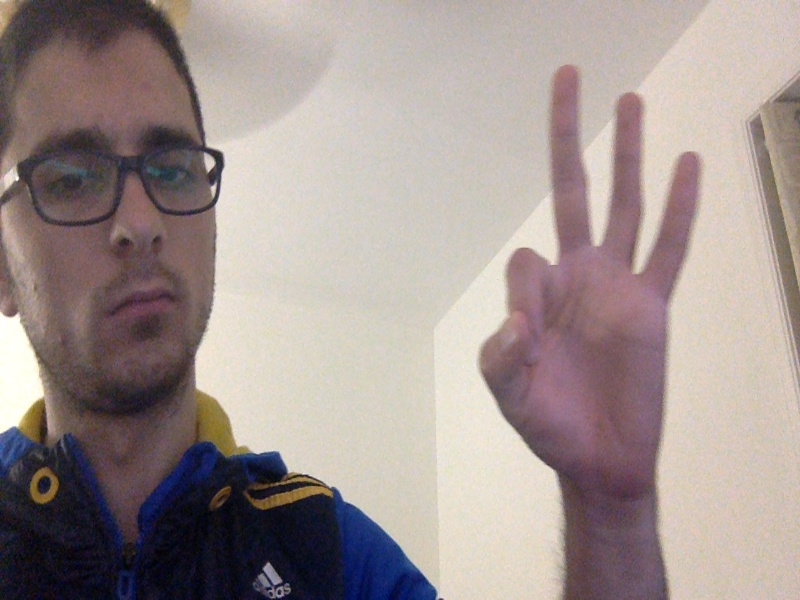3-hand: (476, 67, 700, 491)
